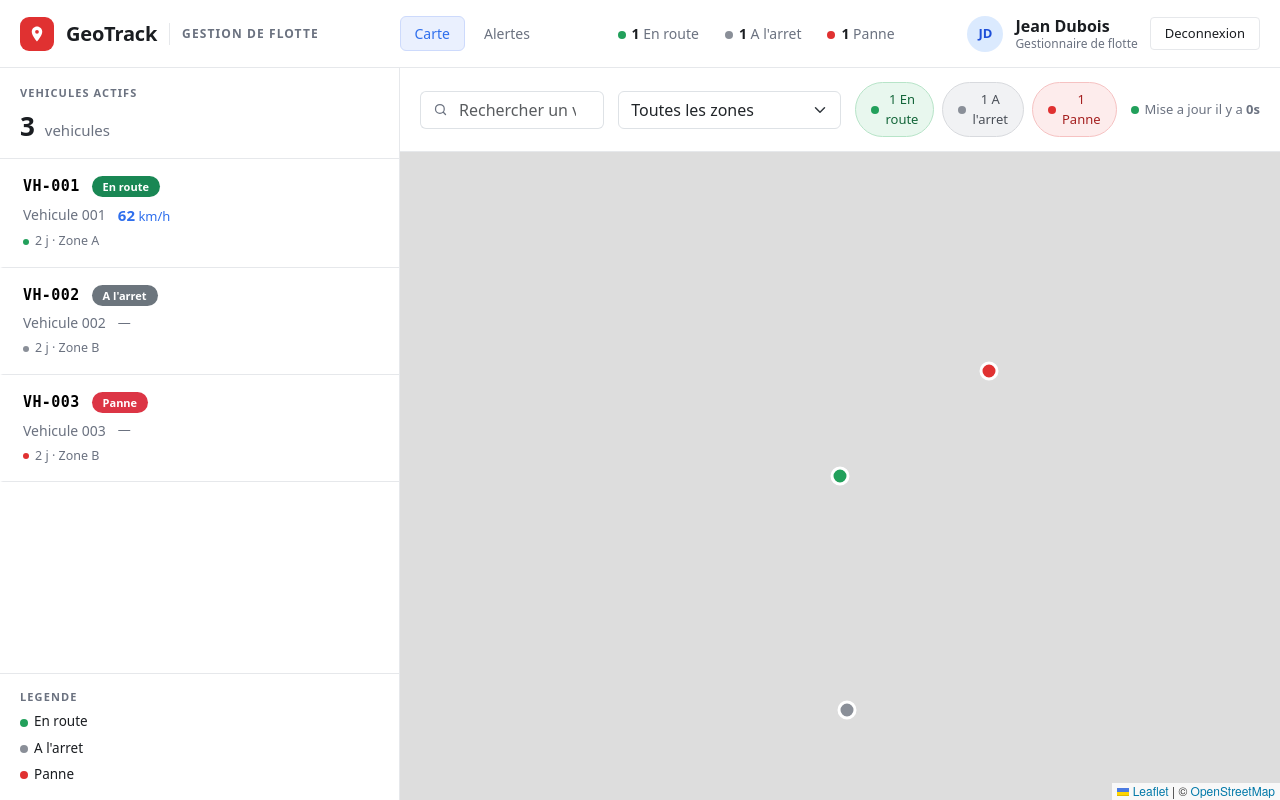
Test: App - porte d authentification (GEO-18) › la deconnexion purge la session et coupe le rafraichissement
Click the button "Deconnexion" at x=1205, y=34, box [1150,17,1260,50]
Wait 15000 ms
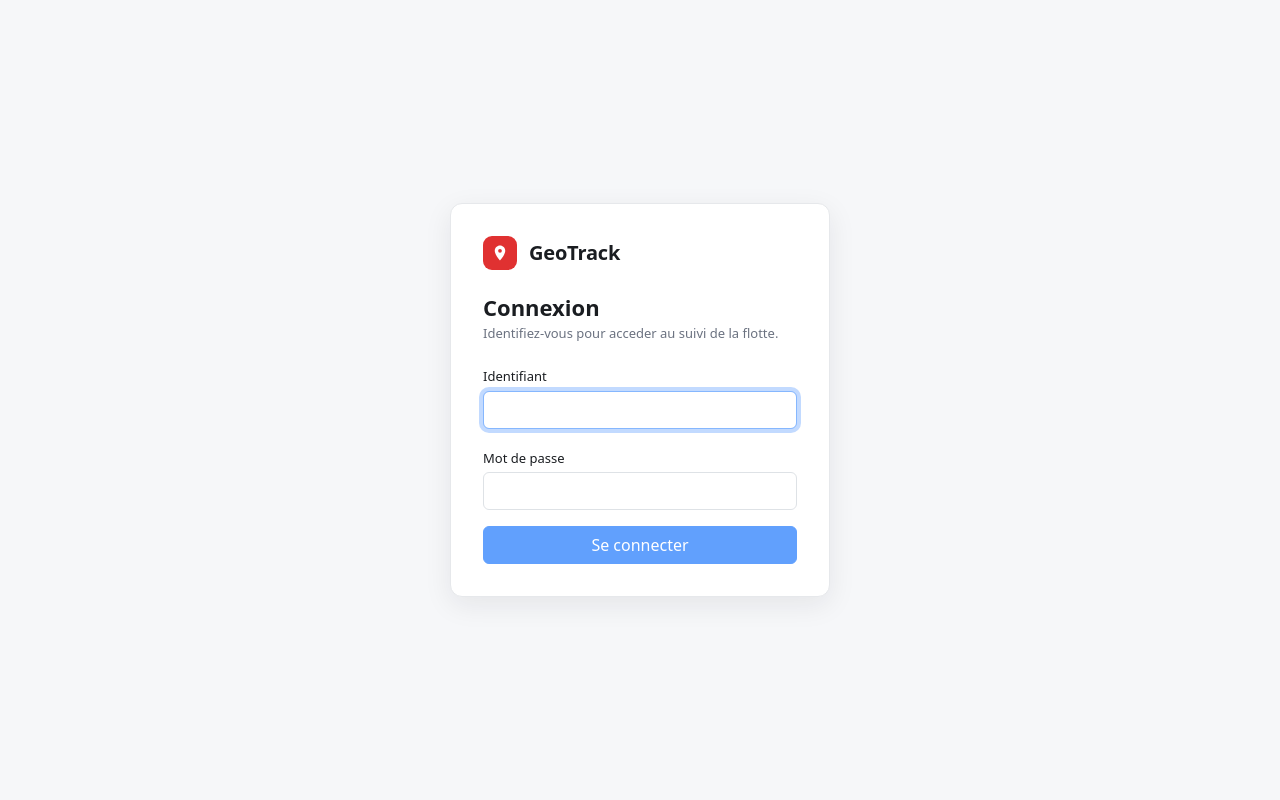
Now the field labelled "Identifiant" is shown, box [483,391,797,429]
